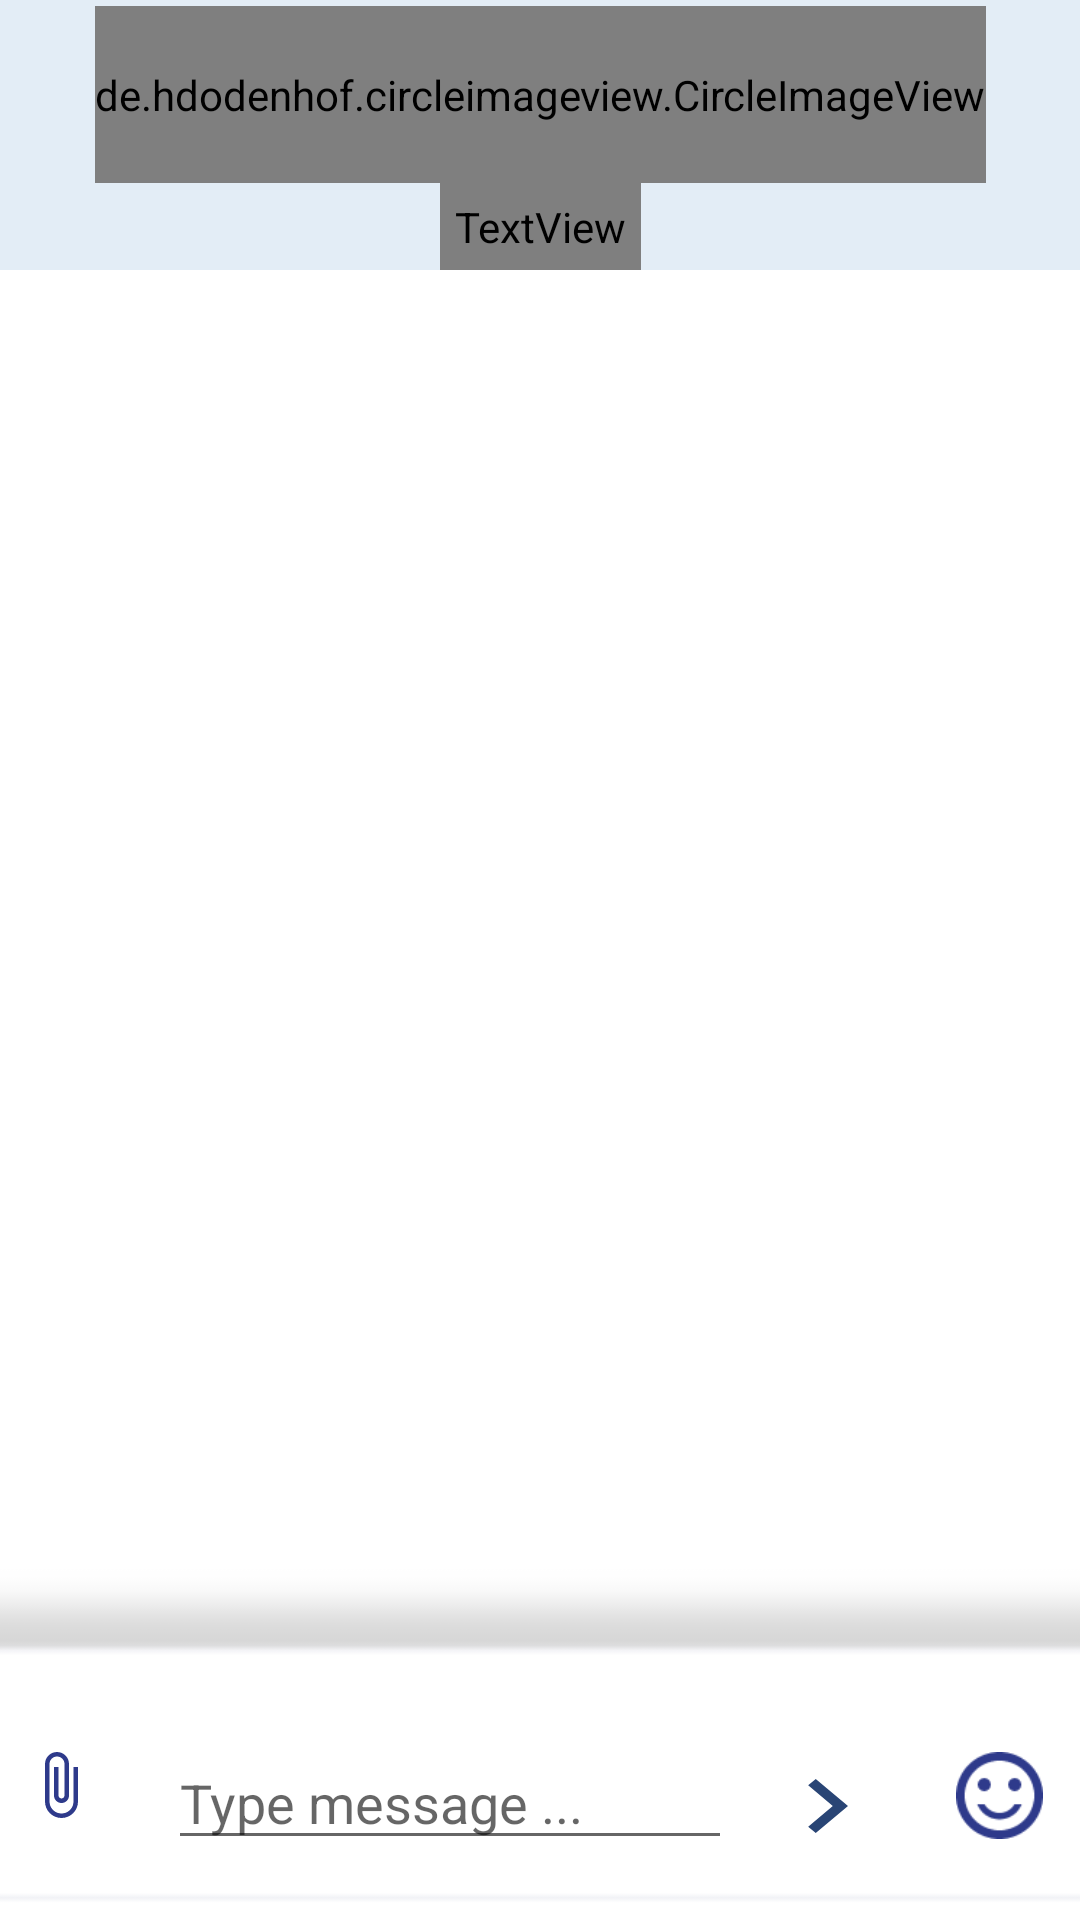

Named icons in this screenshot (1080 × 1920) and their centers, (x=x, y=y):
chevron right: (x=828, y=1806)
emoji: (x=999, y=1795)
file: (x=61, y=1785)
